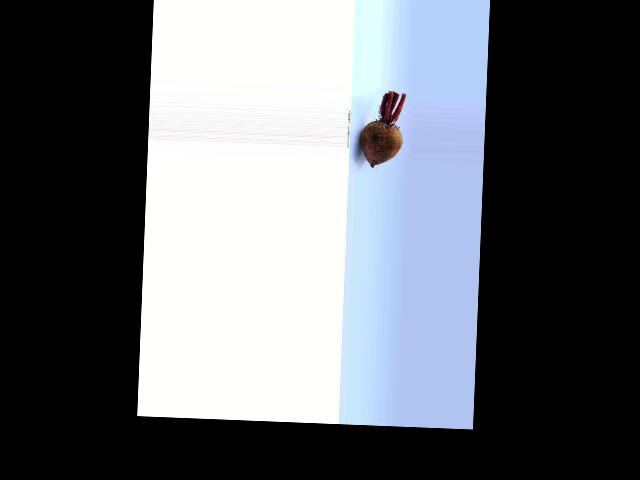beet: (359, 91, 404, 167)
